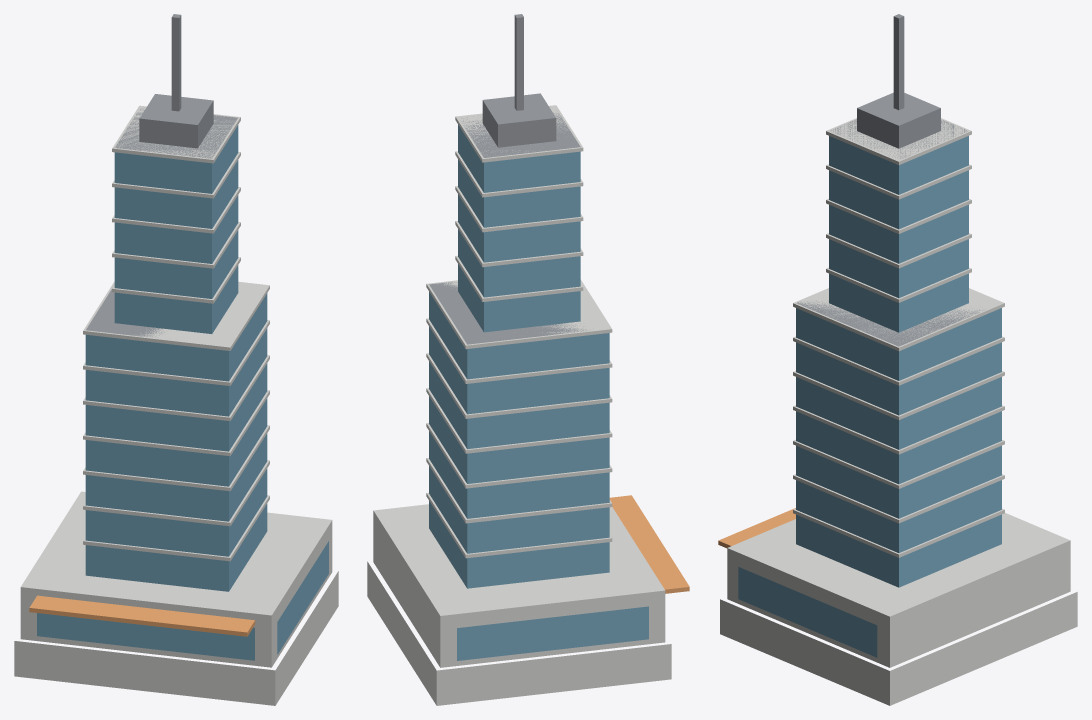
File: bulding-1.glb
3 renders of one model, left to right at view 1: azimuth 30°, elevation 25°; view 2: azimuth 150°, elevation 25°; view 3: azimuth 270°, elevation 25°, orthographic.
Parts seen in each view (by area): view 1: raghave:Mod_Mid_Crossing_South_Tower_01; view 2: raghave:Mod_Mid_Crossing_South_Tower_01; view 3: raghave:Mod_Mid_Crossing_South_Tower_01.
Boxes of the visible parts, x1=… form: raghave:Mod_Mid_Crossing_South_Tower_01: x1=14, y1=14, x2=338, y2=705; raghave:Mod_Mid_Crossing_South_Tower_01: x1=367, y1=14, x2=689, y2=705; raghave:Mod_Mid_Crossing_South_Tower_01: x1=718, y1=14, x2=1077, y2=705.
Bounding box in the file's own units: 85.14 × 161 × 85.14.
